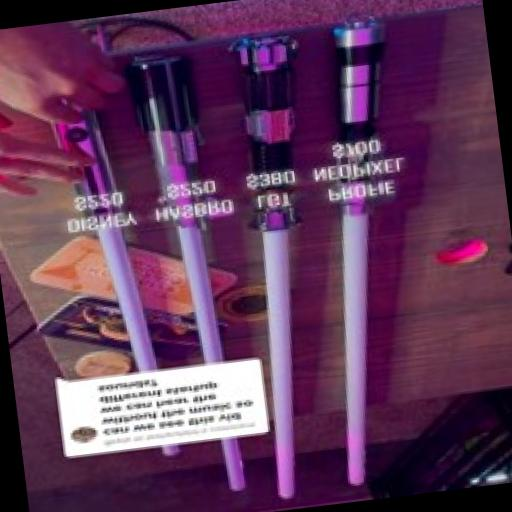lightsaber: (292, 18, 458, 491), (216, 10, 364, 504), (126, 44, 252, 498), (44, 94, 186, 478)
